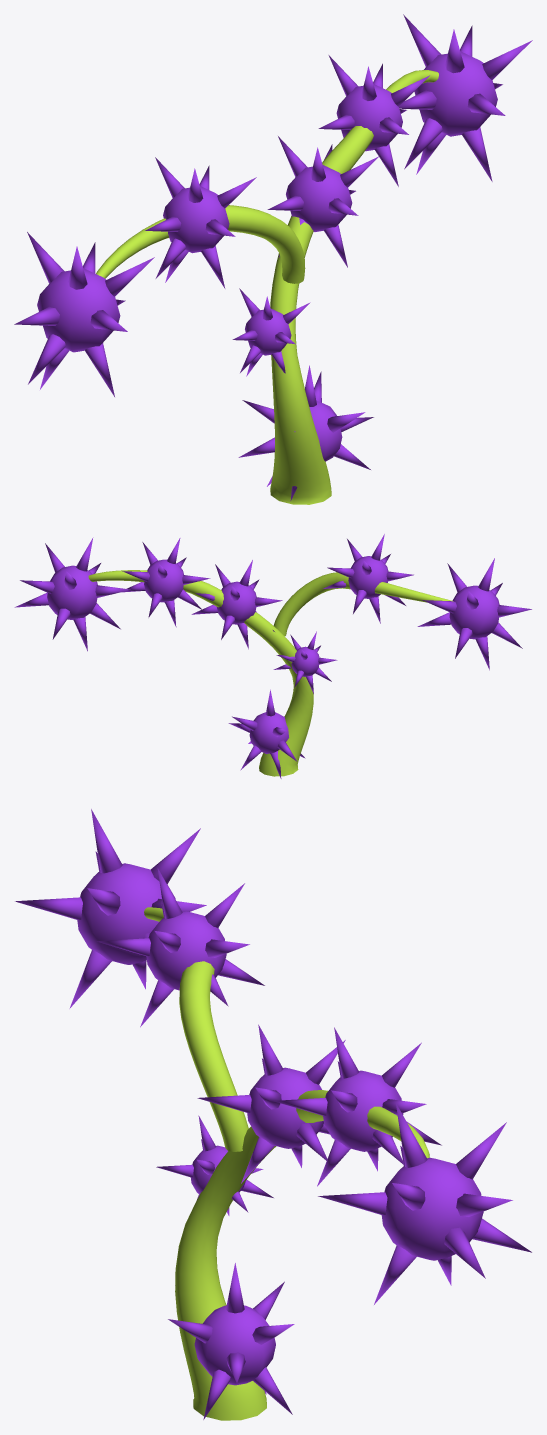
The model's file is flower_spiky2.fbx.
3 views of the same model, one above another, from view 1: azimuth 30°, elevation 25°; view 2: azimuth 150°, elevation 25°; view 3: azimuth 270°, elevation 25° (orthographic). The views are drawn at different scales.
Visible parts, largest first — view 1: flowerSpiky2; view 2: flowerSpiky2; view 3: flowerSpiky2.
Part boxes in pixels (bbox=[...]): flowerSpiky2: bbox=[14, 14, 532, 504]; flowerSpiky2: bbox=[14, 534, 531, 778]; flowerSpiky2: bbox=[15, 809, 531, 1420].
Bounding box in the file's own units: 5.54 × 3.1 × 3.18.
